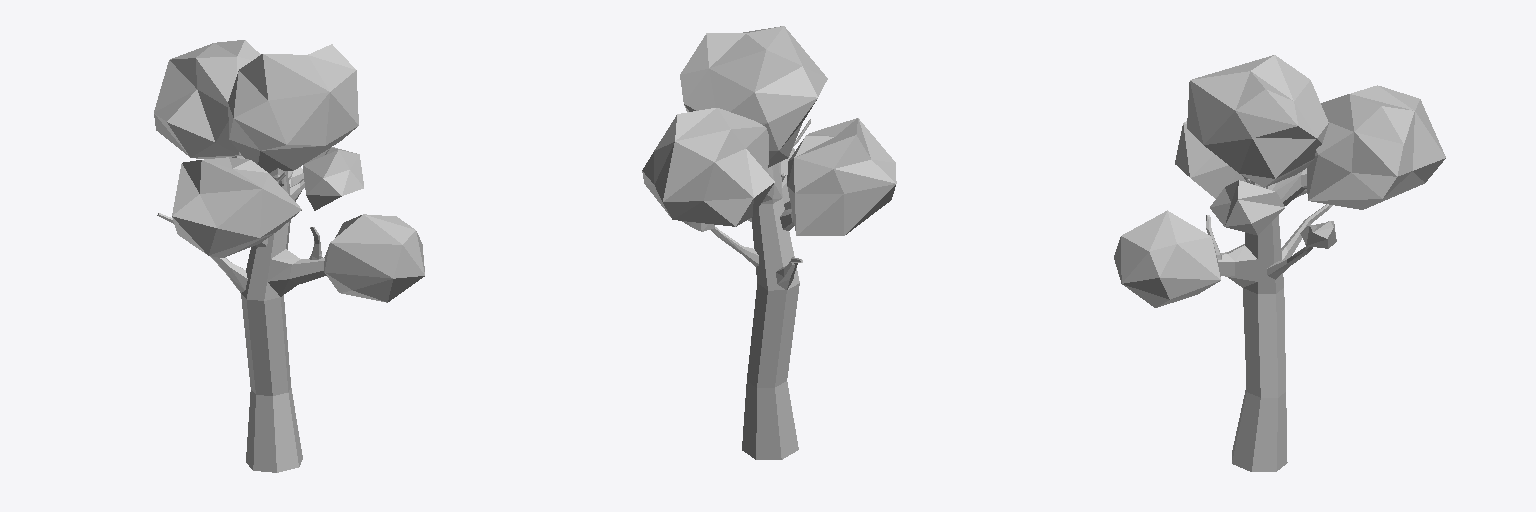
File: yellow.obj
The picture shows the model from 3 angles: view 1: azimuth 30°, elevation 25°; view 2: azimuth 150°, elevation 25°; view 3: azimuth 270°, elevation 25°; orthographic projection.
Size of the model in its own units: 6.08 by 11.11 by 8.23.